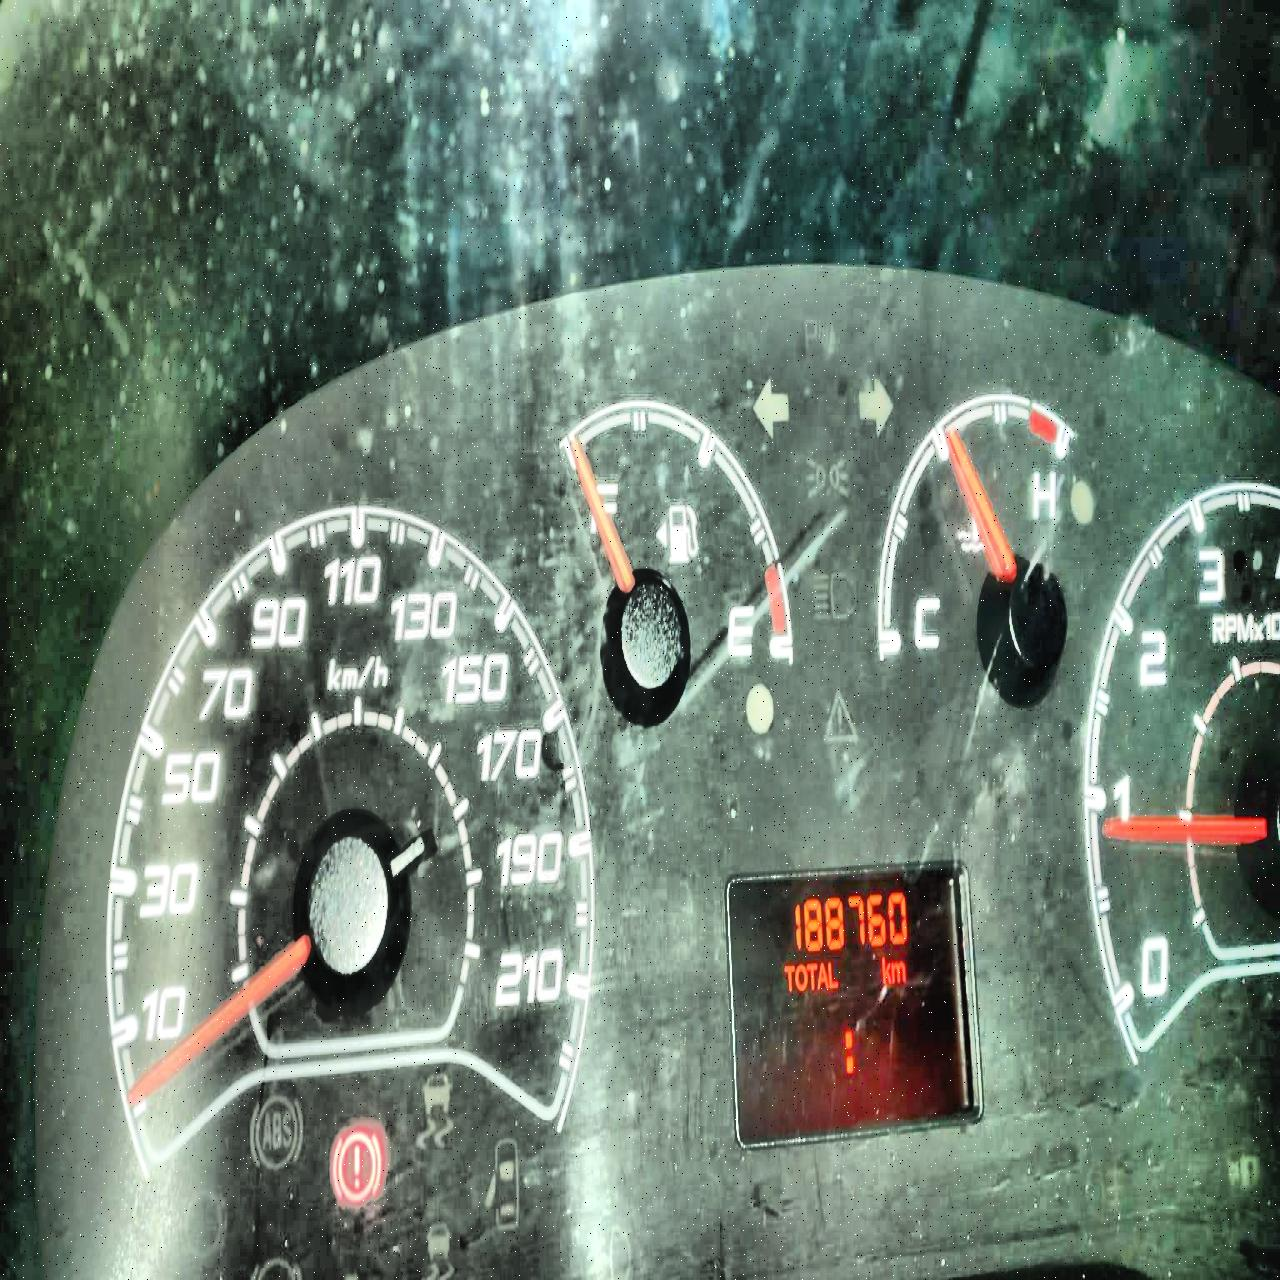0: (886, 890, 906, 944)
1: (794, 903, 801, 951)
6: (866, 892, 885, 945)
7: (846, 894, 865, 945)
8: (803, 896, 823, 951), (824, 897, 844, 949)
X: (844, 1028, 853, 1073), (795, 961, 808, 992), (782, 964, 795, 993), (890, 960, 906, 982), (805, 961, 817, 992), (816, 960, 828, 989), (826, 960, 837, 988), (881, 955, 891, 983)
odometer: (723, 858, 985, 1152)
